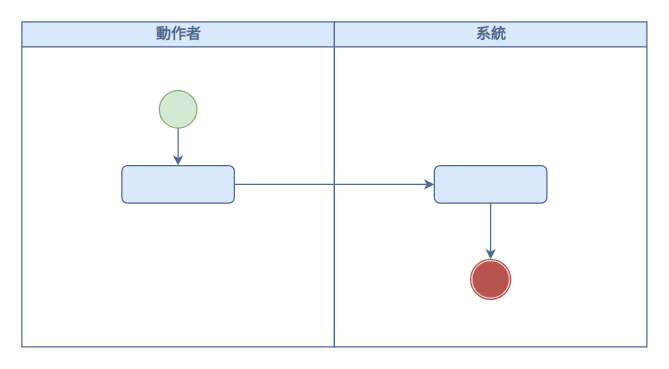
This 669x369 diagram has some shape labels left out. The shapes that lost their labels are listed below. From the top down, each one's centre as x and y in pixels, then its label:
point (177, 183): 點選回到首頁
point (490, 183): 顯示首頁
